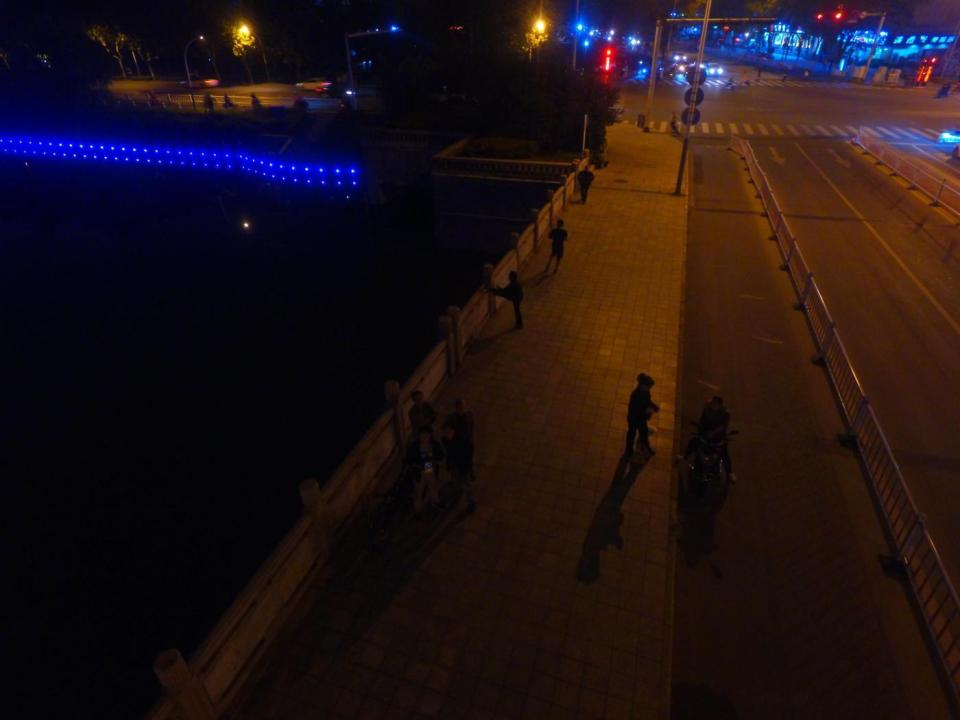car: (292, 76, 332, 92), (185, 74, 218, 88), (706, 62, 723, 78), (673, 53, 688, 64)
